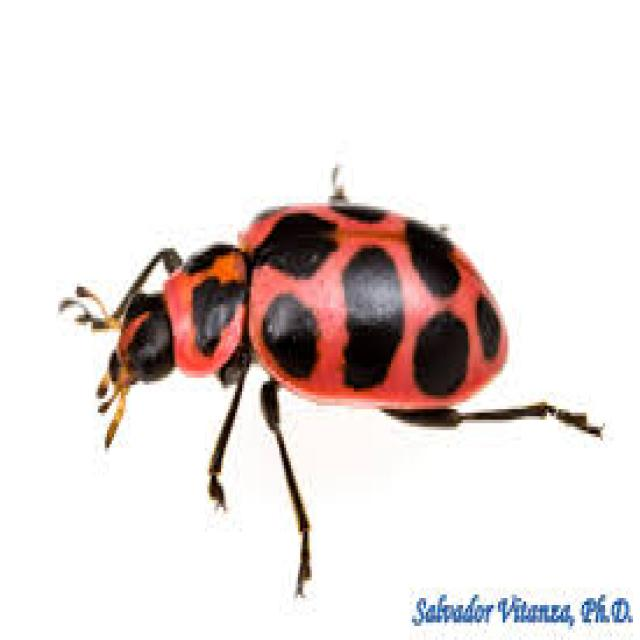bug: (46, 158, 611, 601)
